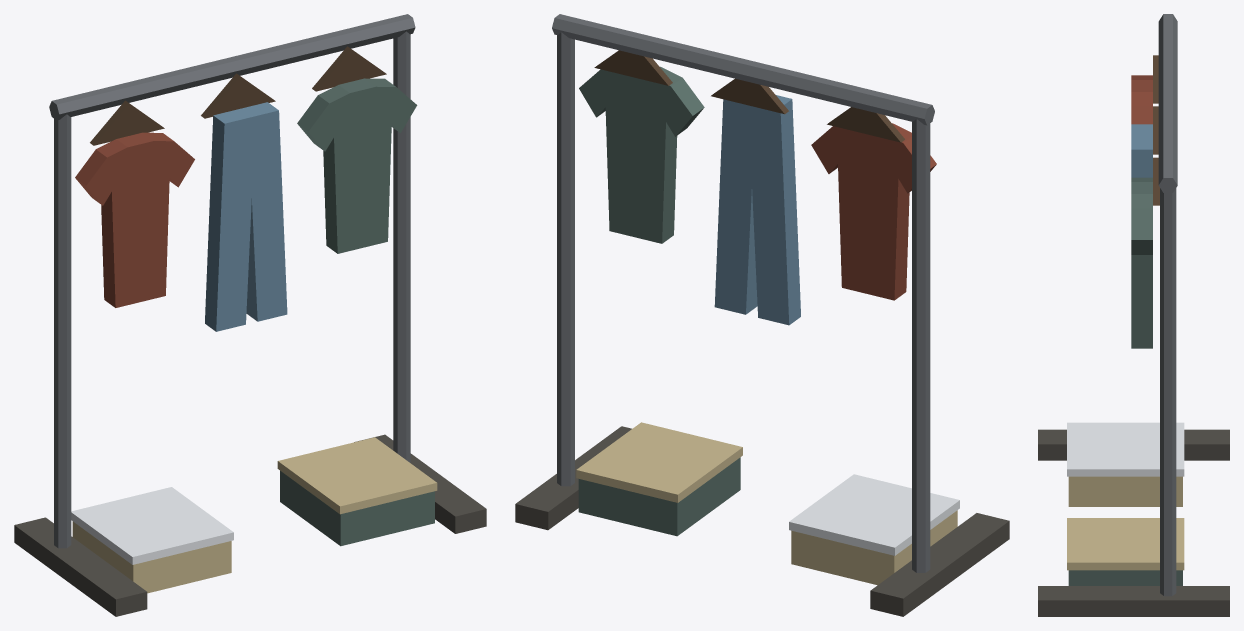
Rendered from prop-clothing-rack.glb.
3 renders of one model, left to right at view 1: azimuth 30°, elevation 25°; view 2: azimuth 150°, elevation 25°; view 3: azimuth 270°, elevation 25°, orthographic. The views are drawn at different scales.
Visible parts, largest first — view 1: clothing_rack; view 2: clothing_rack; view 3: clothing_rack.
Part boxes in pixels (x1,y1,x2,y2): clothing_rack: (14,14,486,616); clothing_rack: (515,14,1009,616); clothing_rack: (1038,14,1229,616).
Bounding box in the file's own units: 0.885 × 1.05 × 0.42.
